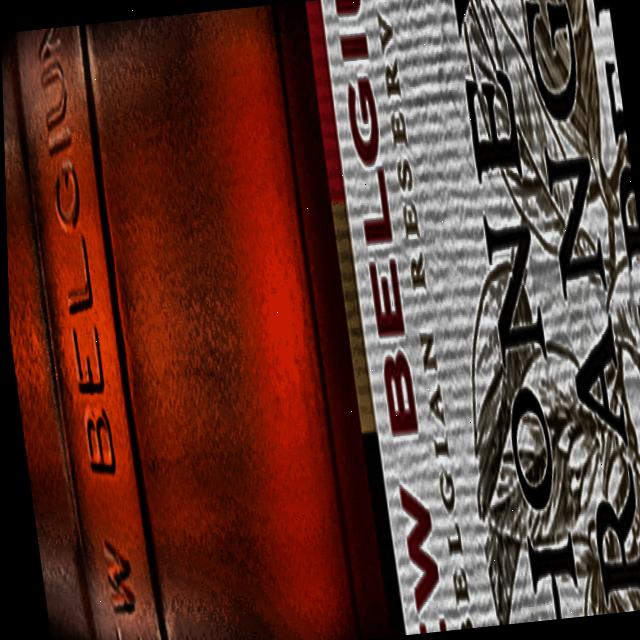glass: (1, 0, 640, 640)
